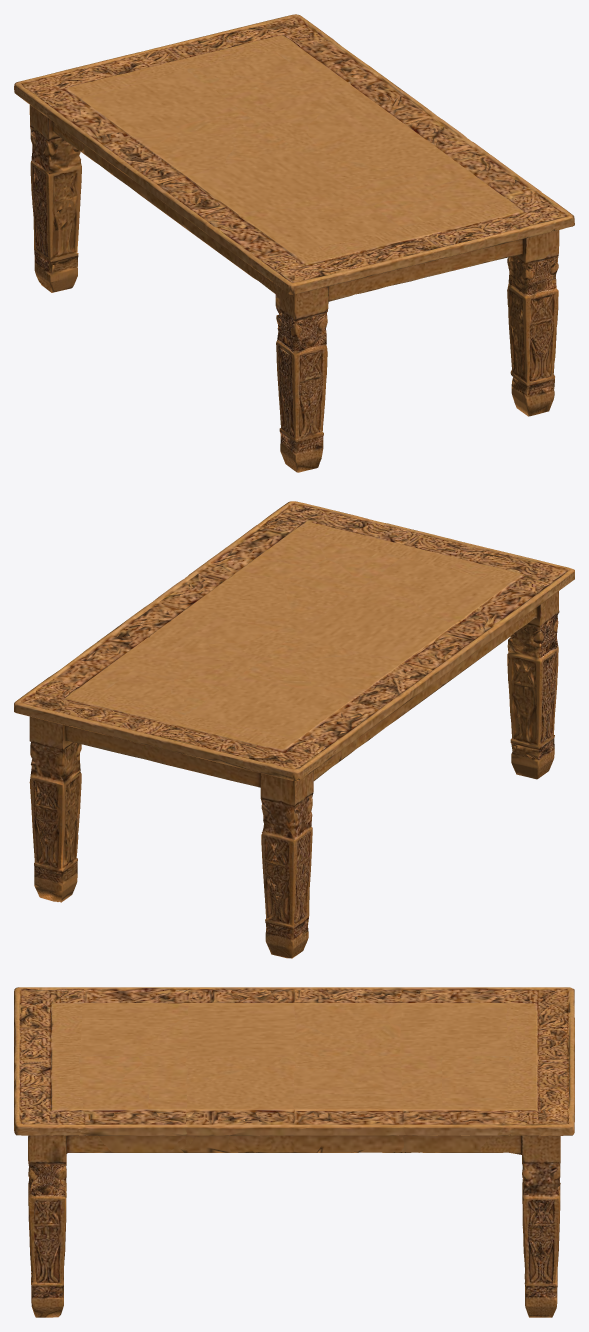
The model's file is Meja-Makan-Passura-v1.glb.
3 views of the same model, one above another, from view 1: azimuth 30°, elevation 25°; view 2: azimuth 150°, elevation 25°; view 3: azimuth 270°, elevation 25° (orthographic).
Parts seen in each view (by area): view 1: tripo_node_57a92cc7-6bf8-465b-97d7-685632efbeb6; view 2: tripo_node_57a92cc7-6bf8-465b-97d7-685632efbeb6; view 3: tripo_node_57a92cc7-6bf8-465b-97d7-685632efbeb6.
Part boxes in pixels (x1,y1,x2,y2): tripo_node_57a92cc7-6bf8-465b-97d7-685632efbeb6: [14, 14, 574, 472]; tripo_node_57a92cc7-6bf8-465b-97d7-685632efbeb6: [14, 501, 574, 958]; tripo_node_57a92cc7-6bf8-465b-97d7-685632efbeb6: [14, 987, 574, 1317].
Size of the model in its own units: 0.5798 by 0.3857 by 0.9794.
1 material, 1 textured.
